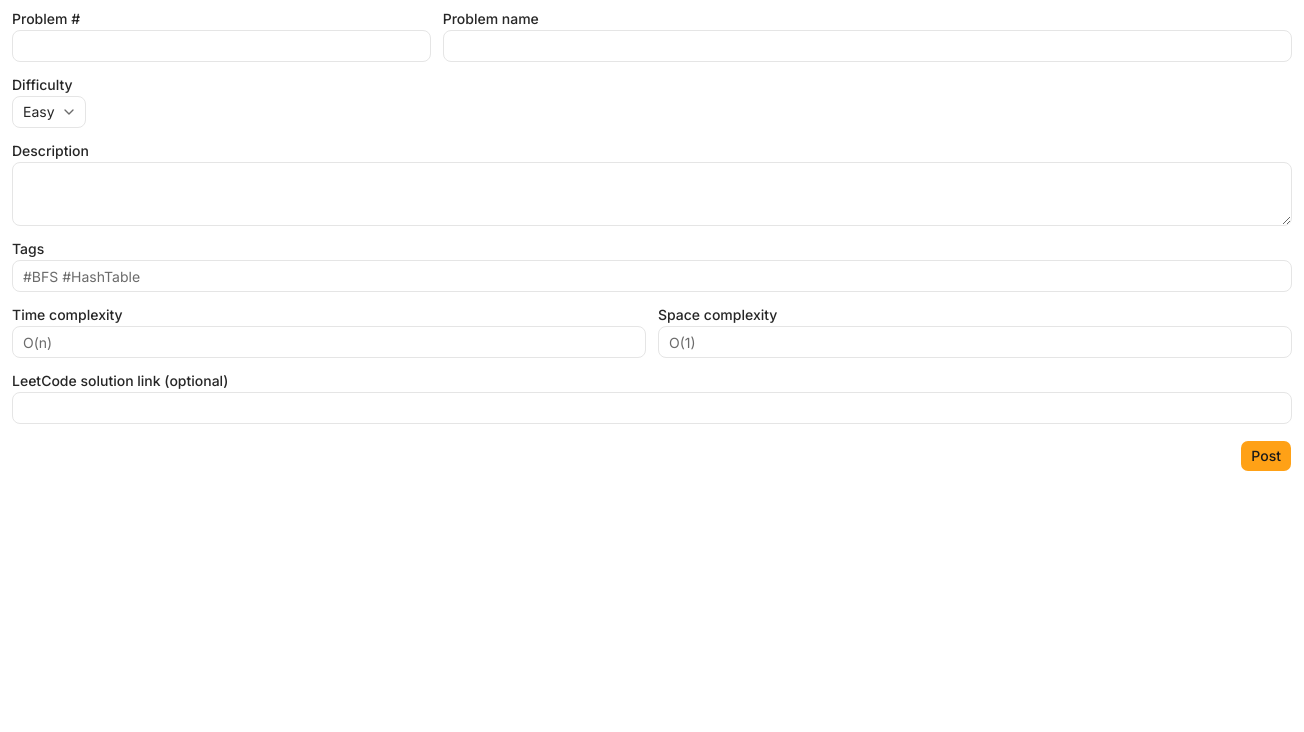
Test: PostForm › blocks an empty submit, then clears a field error once the user types
The image size is (1304, 732).
Step 1. Click the button "Post" → (1266, 456), box [1240,440,1292,472]
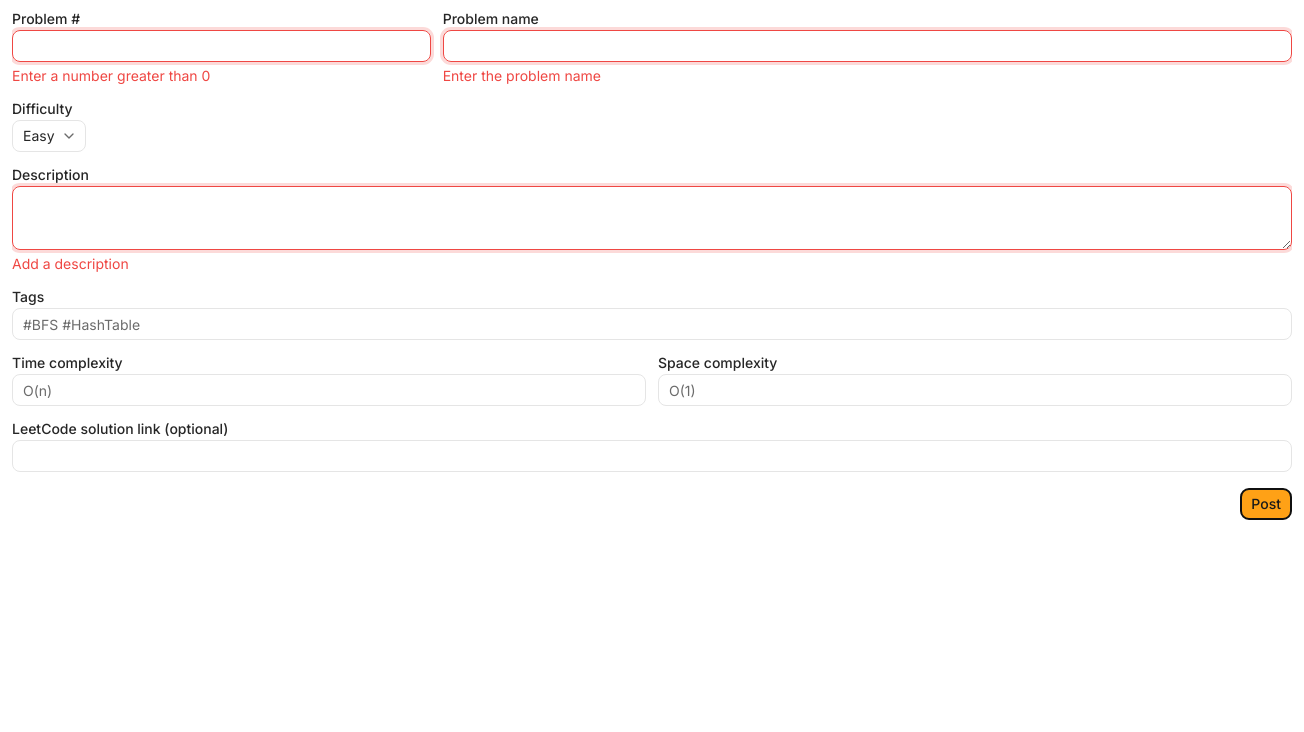
Step 2. Type "T" into the field labelled "Problem name" → (867, 46), box [443,30,1292,62]
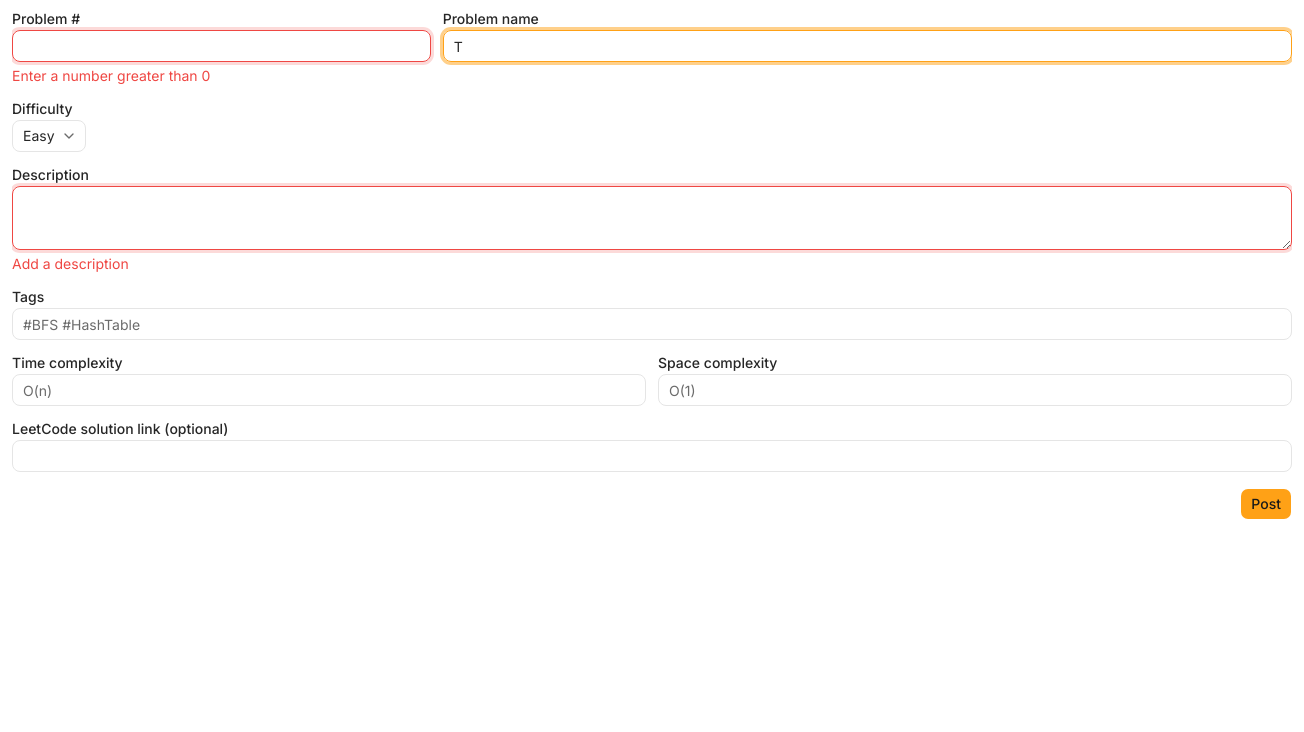
Expected: the field labelled "Problem name" is not marked as invalid, [443,30,1292,62]
